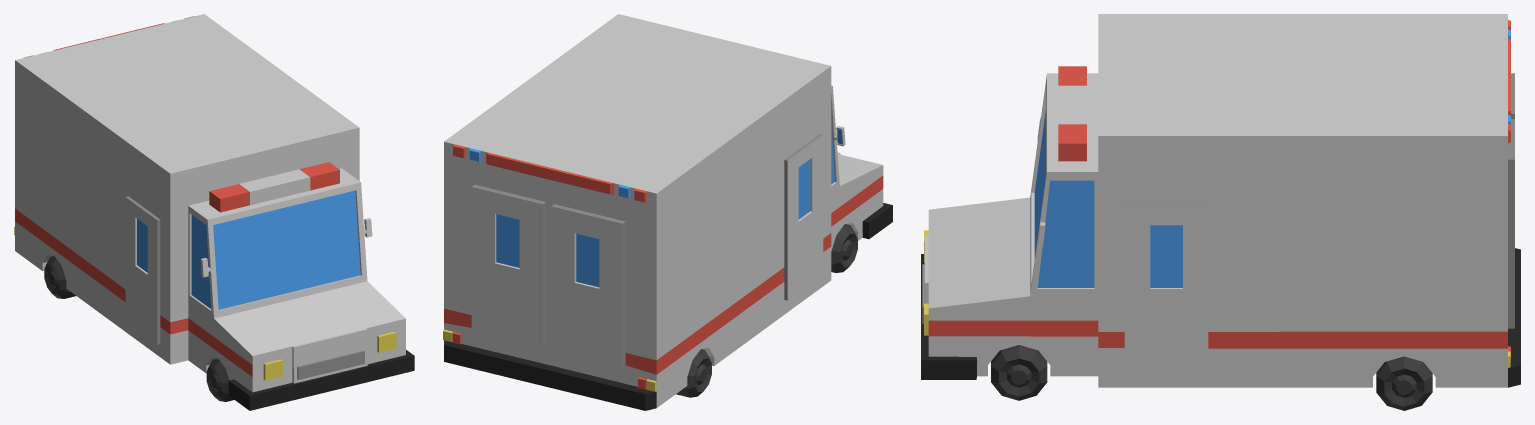
Rendered from Ambulance.glb.
The picture shows the model from 3 angles, left to right: view 1: azimuth 30°, elevation 25°; view 2: azimuth 150°, elevation 25°; view 3: azimuth 270°, elevation 25°; orthographic projection. The views are drawn at different scales.
Visible parts, largest first — view 1: Ambulance, FrontWheels, BackWheels; view 2: Ambulance, FrontWheels, BackWheels; view 3: Ambulance, FrontWheels, BackWheels.
Part boxes in pixels (x1,y1,x2,y2): Ambulance: (14,14,414,410); FrontWheels: (206,358,234,401); BackWheels: (44,256,75,298); Ambulance: (443,14,892,410); FrontWheels: (831,224,857,272); BackWheels: (676,349,711,397); Ambulance: (921,14,1520,387); FrontWheels: (991,345,1047,400); BackWheels: (1376,356,1432,410).
Bounding box in the file's own units: 2.84 × 2.91 × 5.72.
